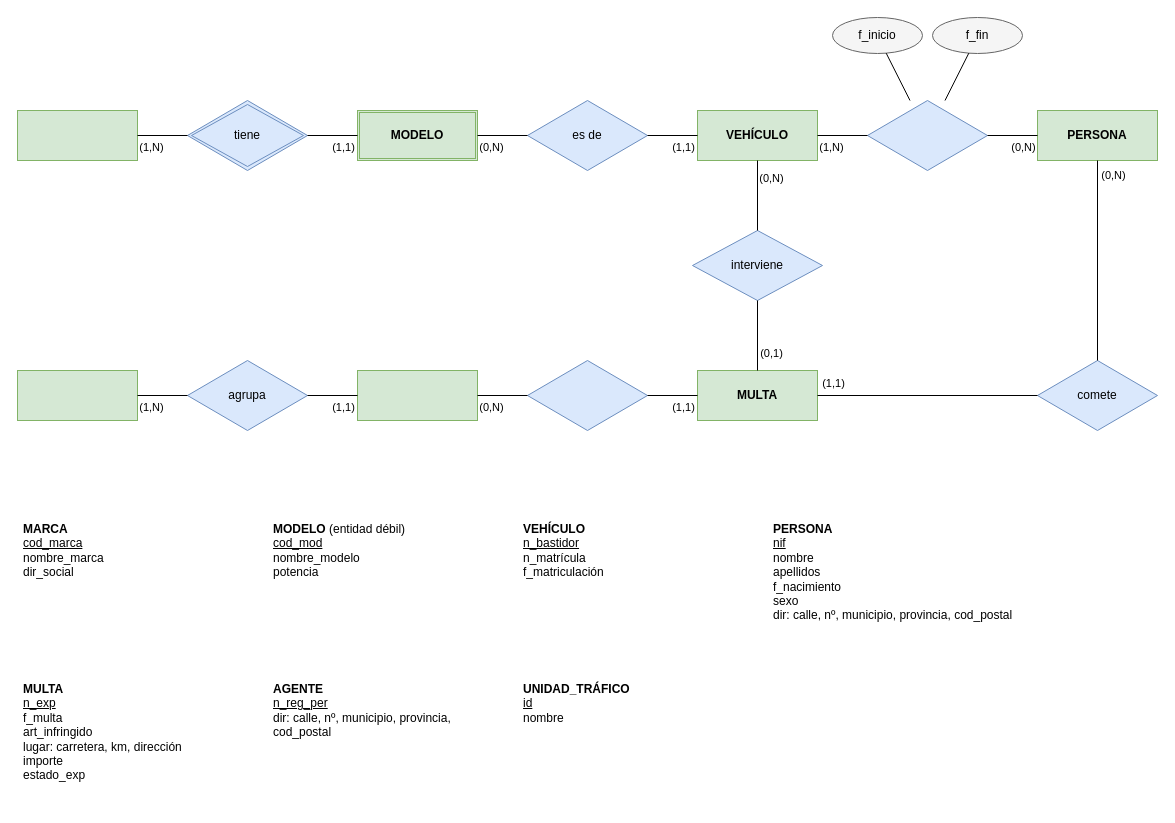
Image size: 1175x823. Some labels were removed from this diagram. The shapes that lost their labels are listed below. From the top down, each one's centre as x and y in pixels, then its label:
the point at 77,135: MARCA
the point at 927,135: posee
the point at 77,395: UNIDAD_TRÁFICO
the point at 417,395: AGENTE
the point at 587,395: impone
